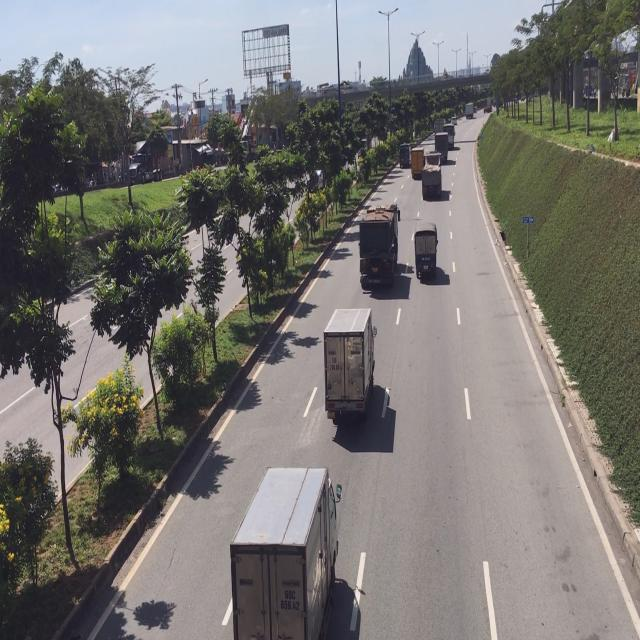truck: (227, 464, 342, 638), (324, 305, 374, 427), (359, 198, 399, 290), (414, 220, 439, 282), (423, 152, 443, 197)
